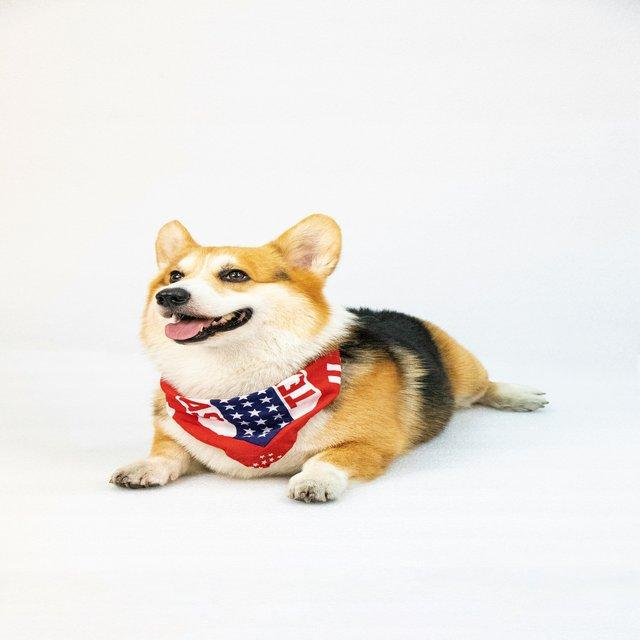corgi: (108, 211, 549, 504)
